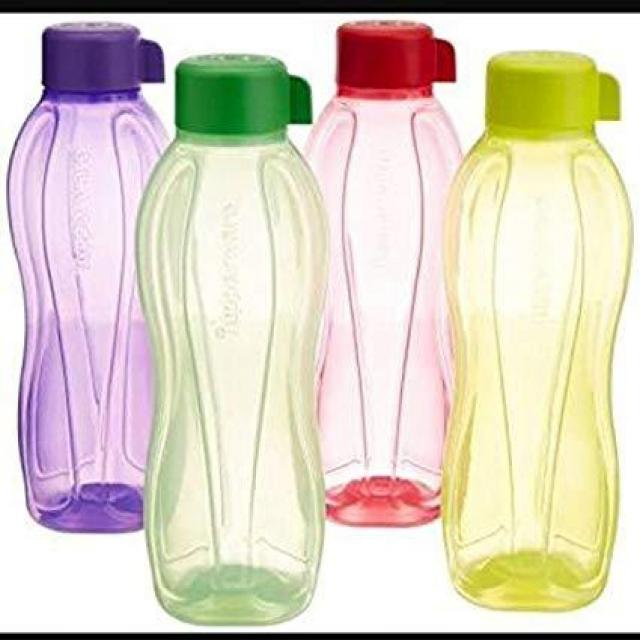plastic_bottle: (140, 50, 326, 629), (442, 47, 621, 615), (3, 17, 174, 556), (313, 20, 462, 522)
